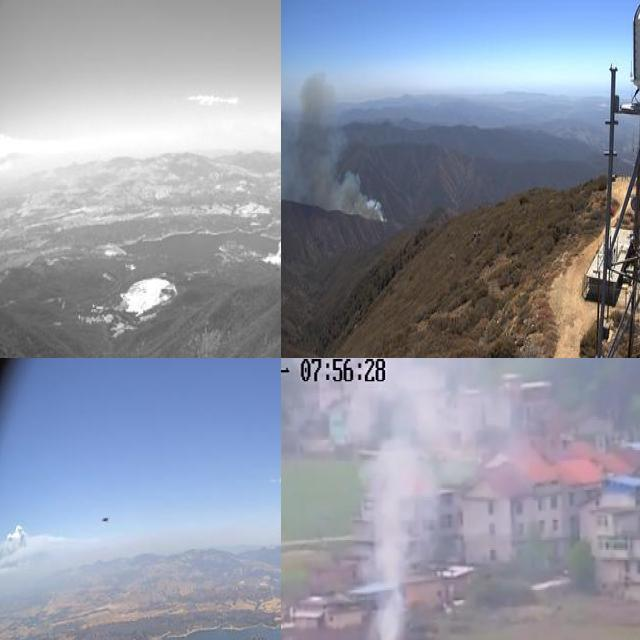smoke: (315, 358, 476, 640), (281, 63, 383, 220)
